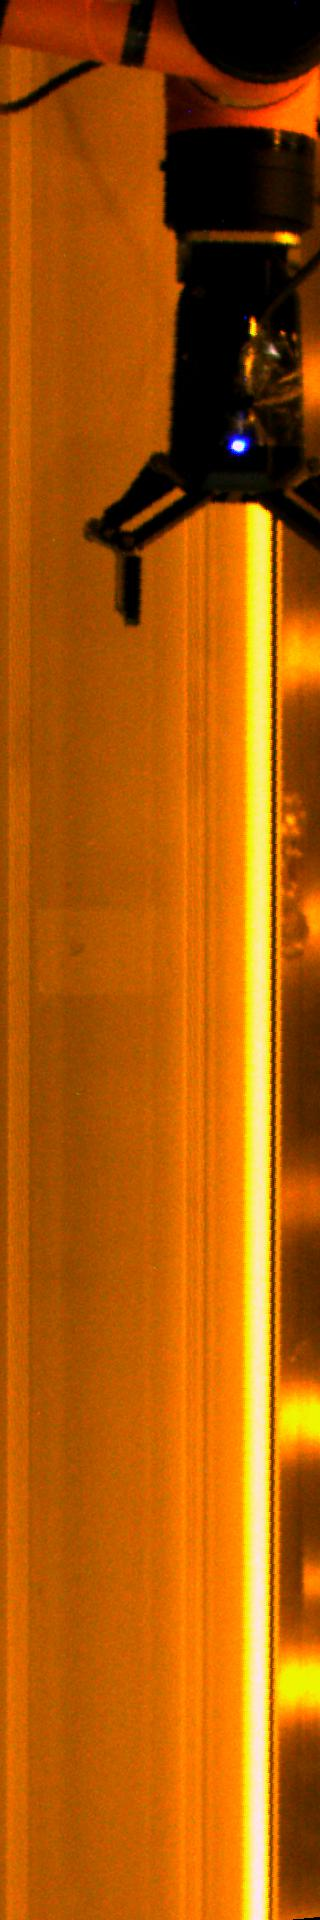keyPoint_1: (224, 431, 254, 460)
